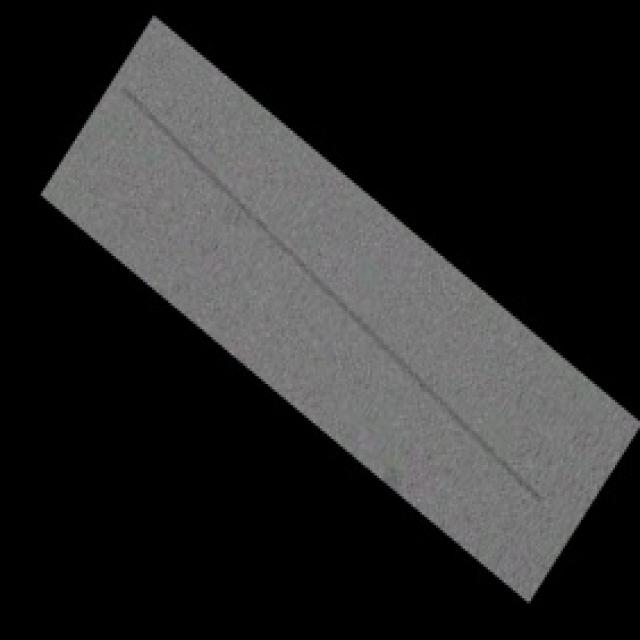Defect4: (84, 39, 566, 576)
